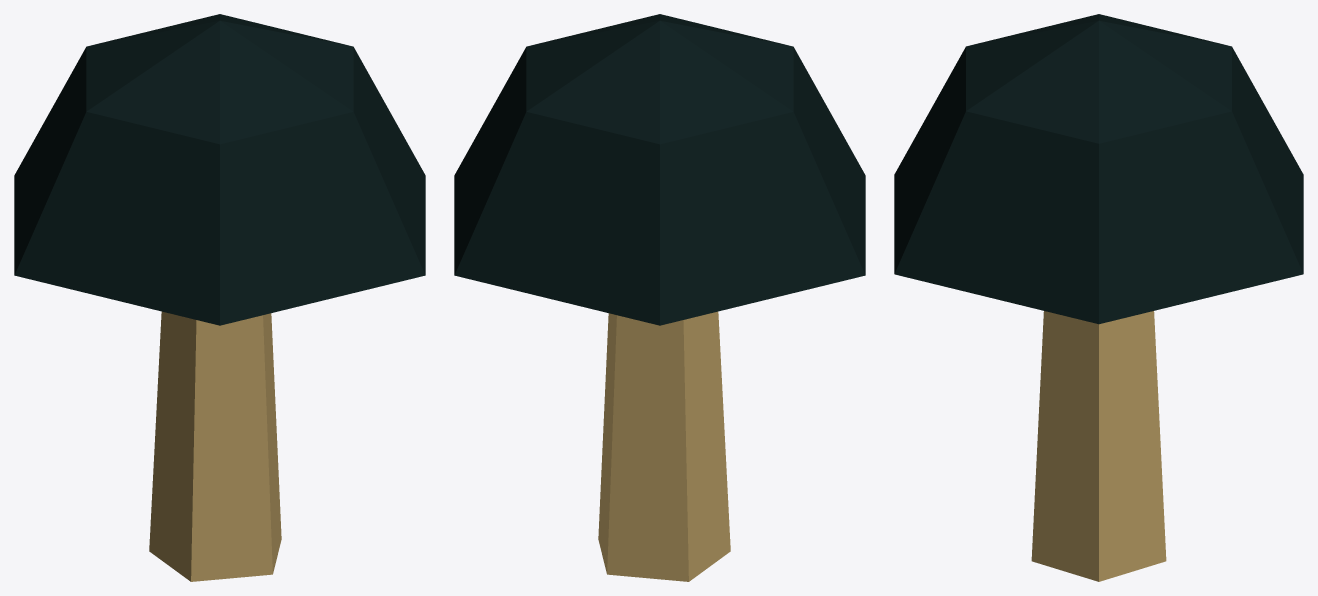
Rendered from Mushroom_Large_03.fbx.
3 views of the same model, side by side, from view 1: azimuth 30°, elevation 25°; view 2: azimuth 150°, elevation 25°; view 3: azimuth 270°, elevation 25° (orthographic).
Visible parts, largest first — view 1: Mushroom_Large_03_Mesh; view 2: Mushroom_Large_03_Mesh; view 3: Mushroom_Large_03_Mesh.
Boxes of the visible parts, x1,y1,x2,y2 form: Mushroom_Large_03_Mesh: (14,14,425,581); Mushroom_Large_03_Mesh: (454,14,865,581); Mushroom_Large_03_Mesh: (894,14,1303,581).
Size of the model in its own units: 0.4 by 0.4964 by 0.3464.
Materials: 1 (1 with a texture image).
